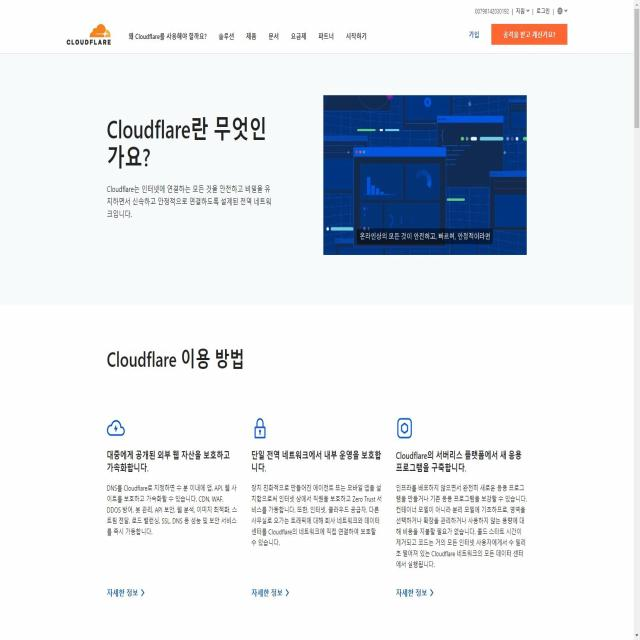button: (493, 23, 568, 45)
